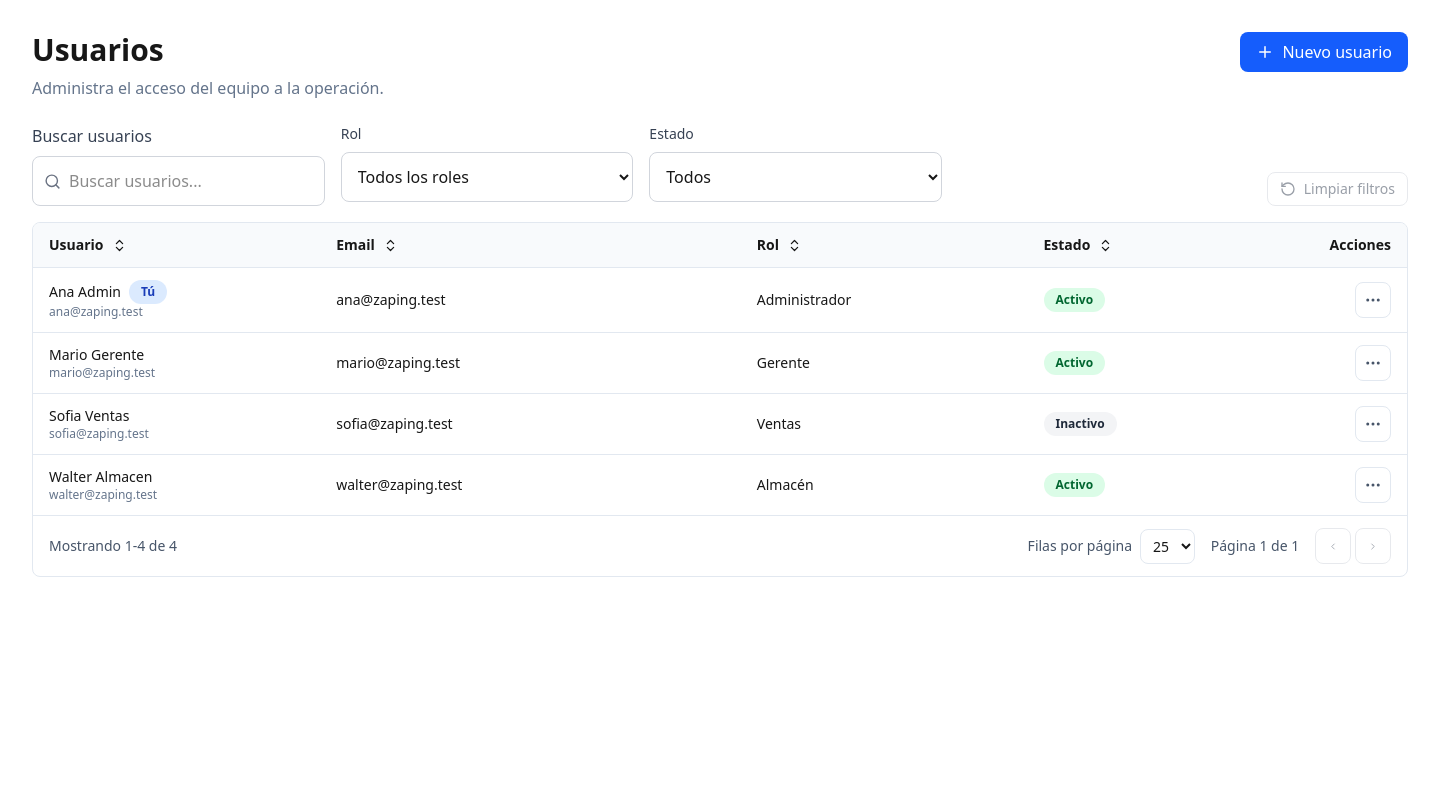
Test: UsersPage › opens create modal and validates required fields, short password, and mismatch
The width and height of the screenshot is (1440, 810).
Expected: the text "Ana Admin" is shown, [49,282,121,302]
Click the button "Nuevo usuario".
click(1324, 52)  # box [1240,32,1408,72]
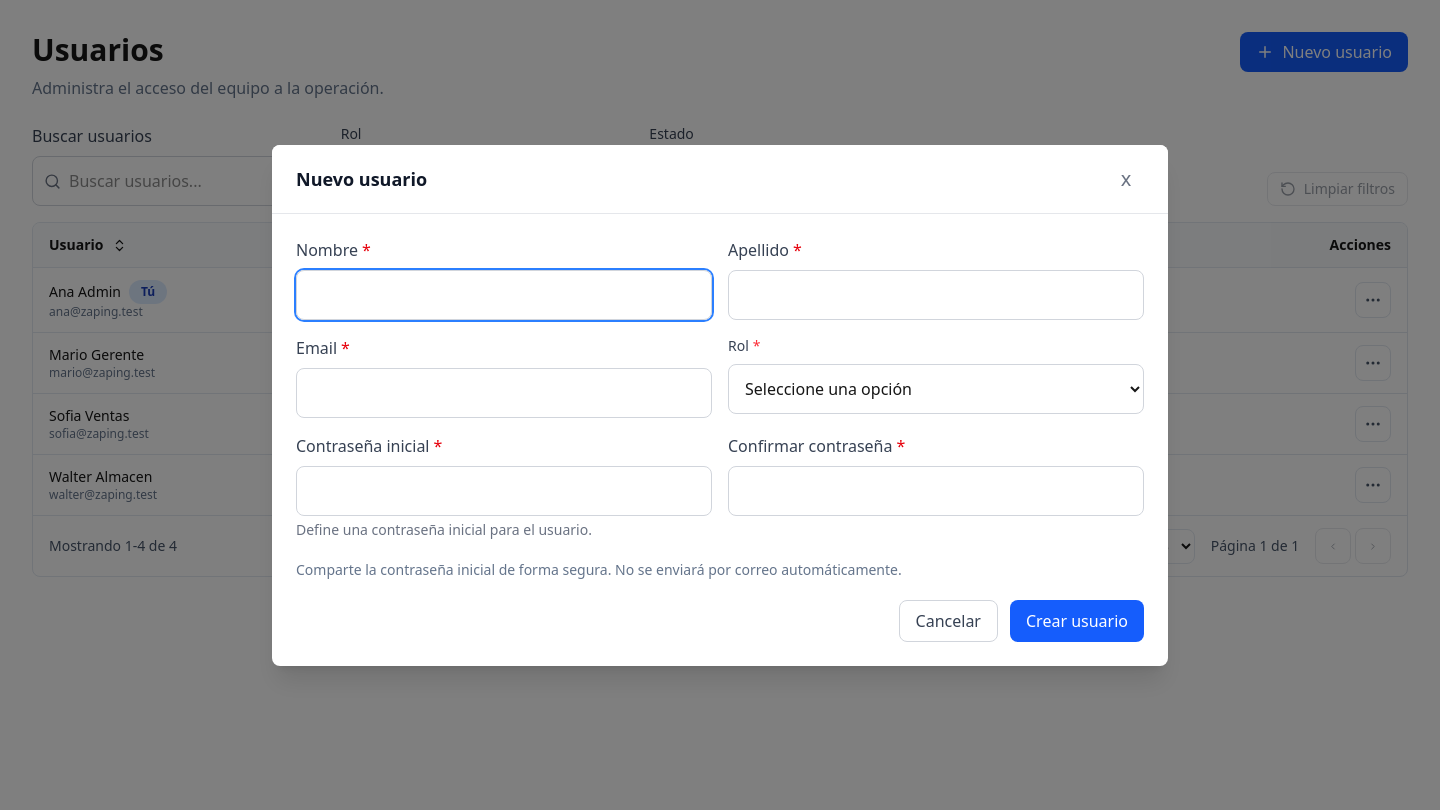
Click the button "Crear usuario".
click(1077, 620)  # box [1010,600,1144,642]
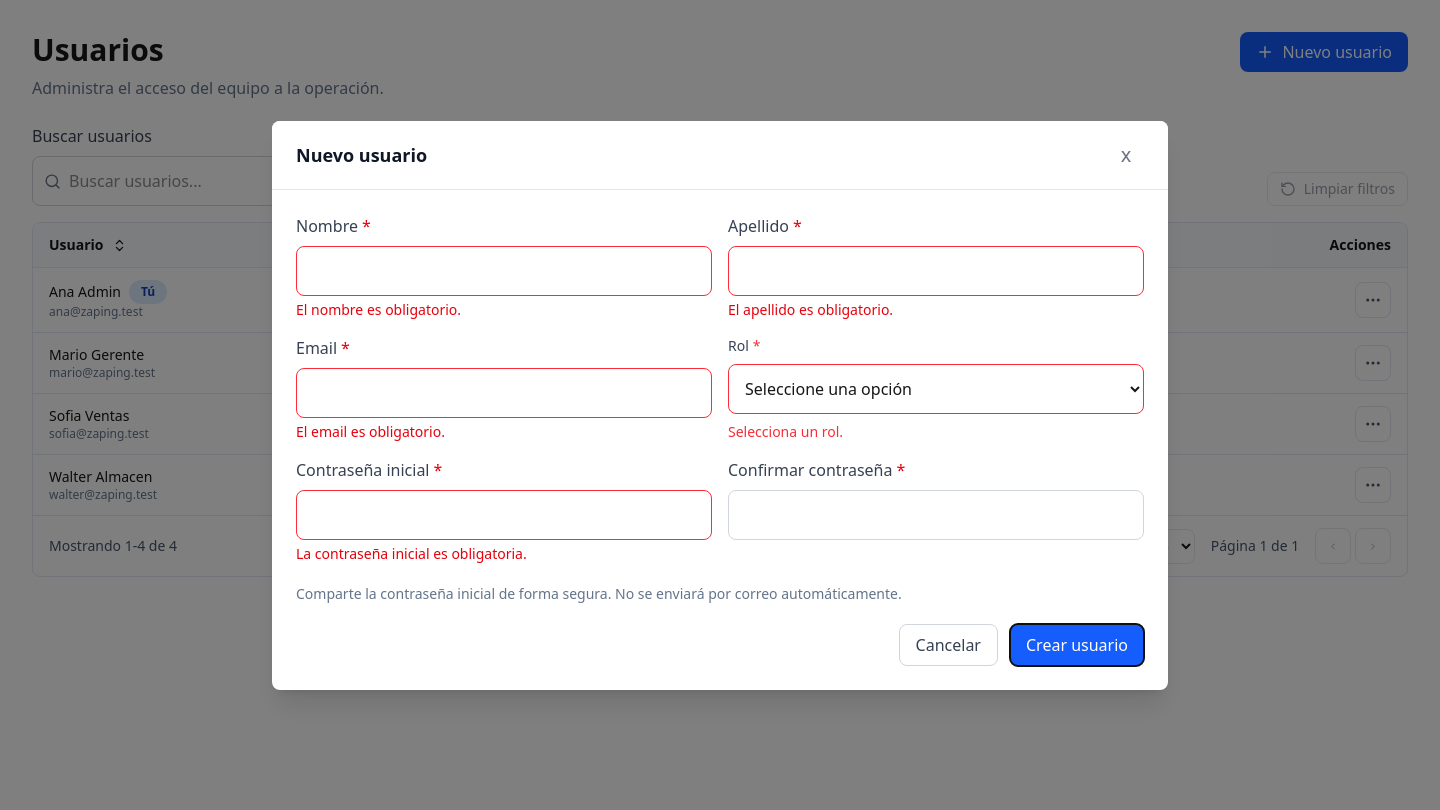
Now the text "El nombre es obligatorio." is shown, box [296,300,461,318]
Now the text "El apellido es obligatorio." is shown, box [728,300,893,318]
Type "1234567" into the password field labelled "Contraseña inicial*".
click(504, 514); type("1234567")  # box [296,490,712,540]
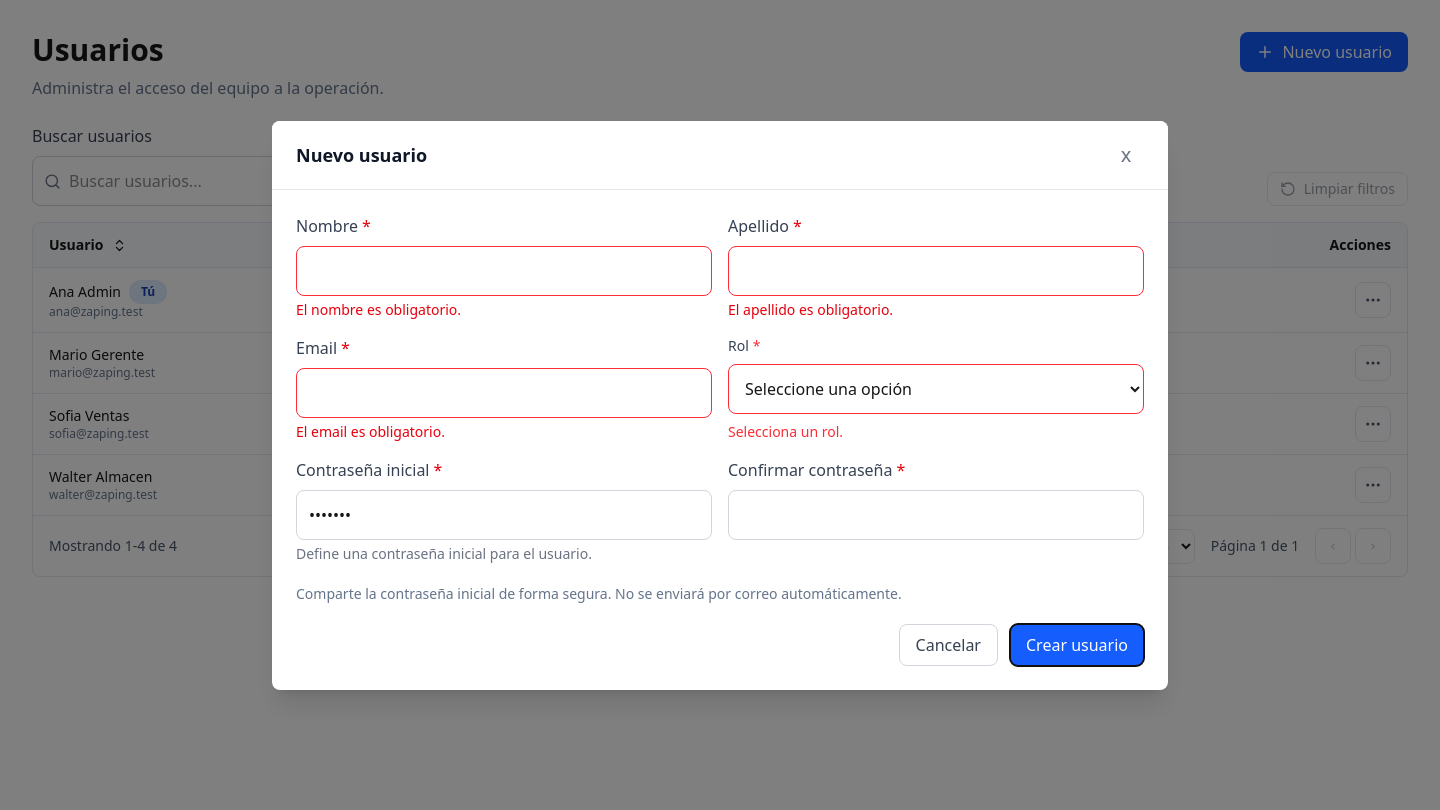
Type "7654321" into the password field labelled "Confirmar contraseña*".
click(936, 514); type("7654321")  # box [728,490,1144,540]
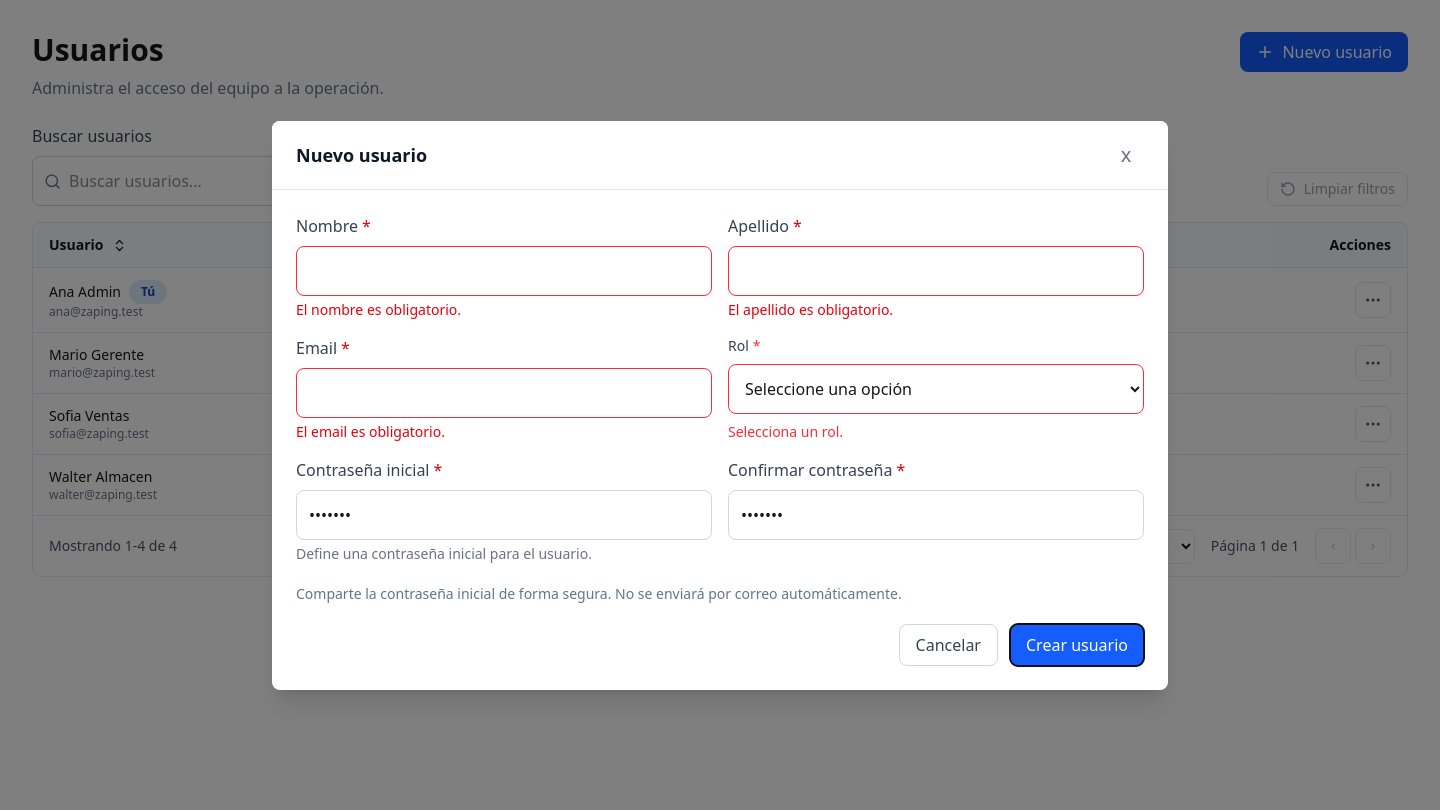
Click the button "Crear usuario".
click(1077, 644)  # box [1010,624,1144,666]
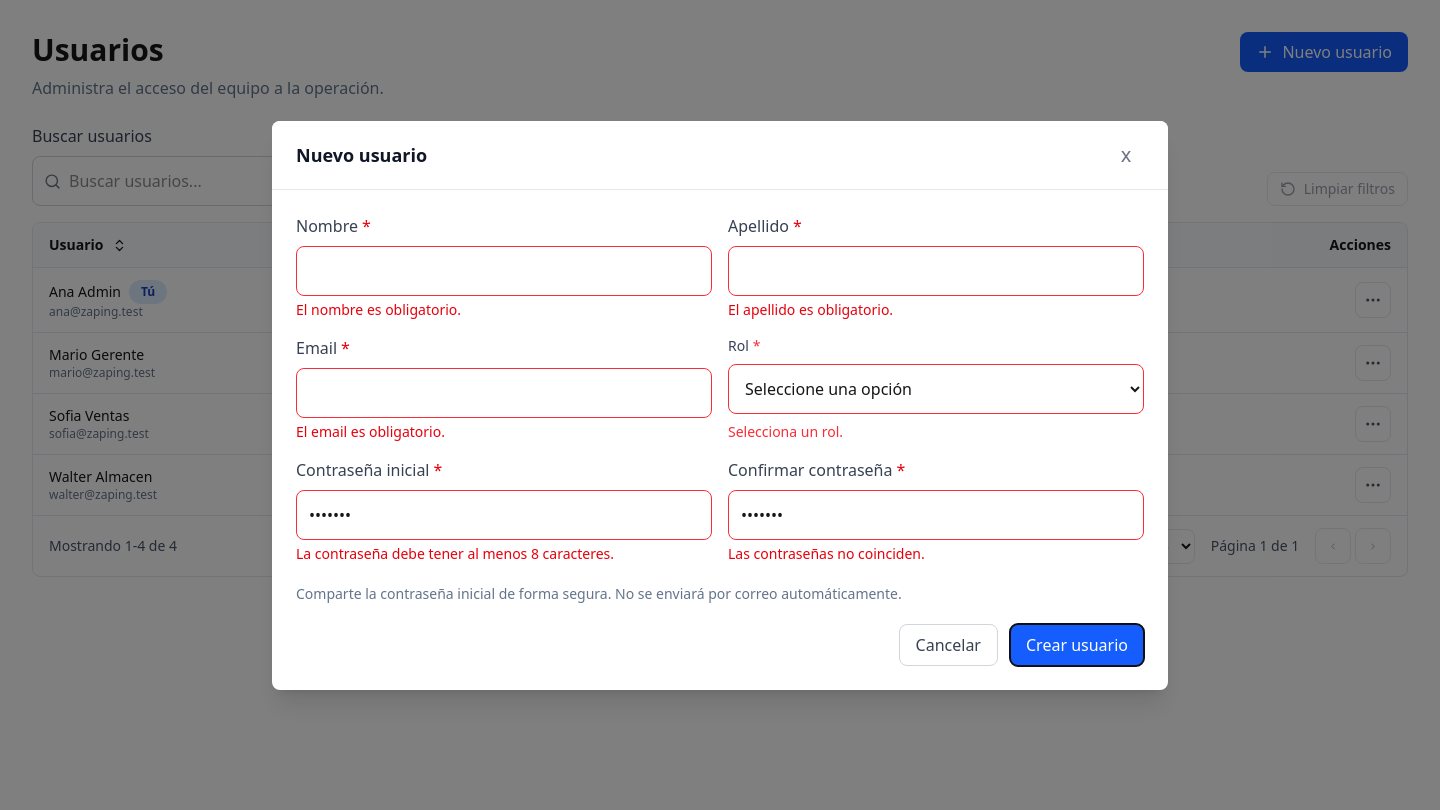
Now the text "La contraseña debe tener al menos 8 caracteres." is shown, box [296,544,614,562]
Now the text "Las contraseñas no coinciden." is shown, box [728,544,925,562]
